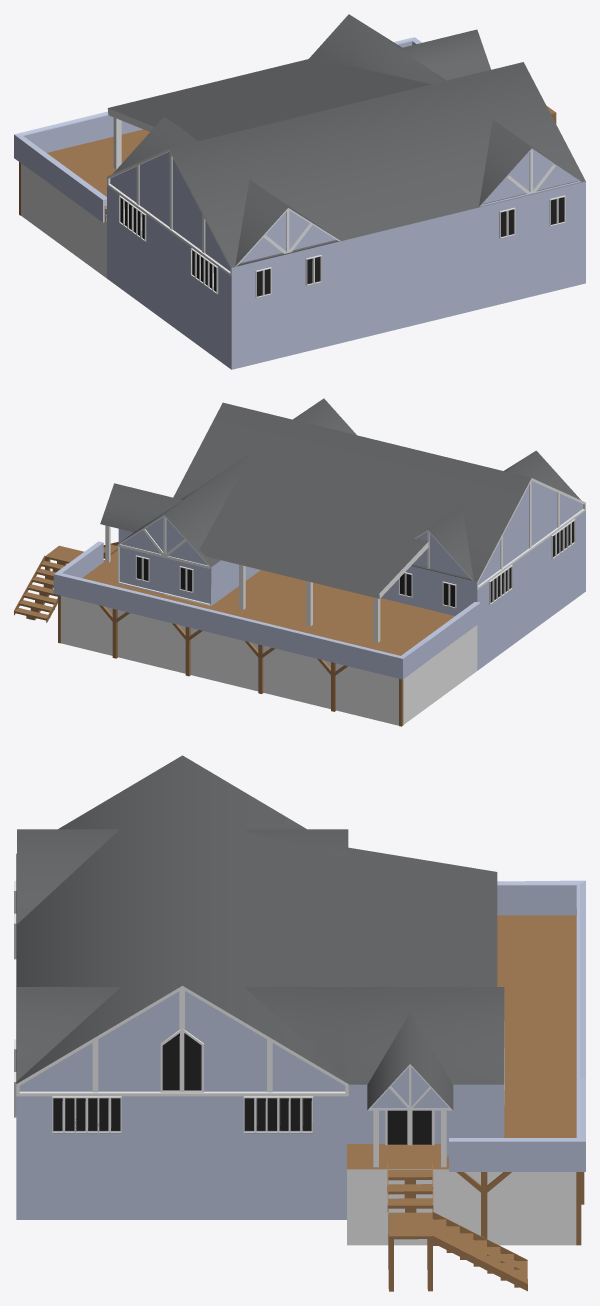
File: Brewhouse.FBX
The picture shows the model from 3 angles, top to bottom: view 1: azimuth 30°, elevation 25°; view 2: azimuth 150°, elevation 25°; view 3: azimuth 270°, elevation 25°; orthographic projection. The views are drawn at different scales.
Parts seen in each view (by area): view 1: Box001; view 2: Box001; view 3: Box001.
Part boxes in pixels (bbox=[...]): Box001: bbox=[14, 14, 585, 369]; Box001: bbox=[14, 398, 585, 726]; Box001: bbox=[14, 755, 585, 1291].
Bounding box in the file's own units: 217 × 78.07 × 172.
Materials: 1 (1 with a texture image).
